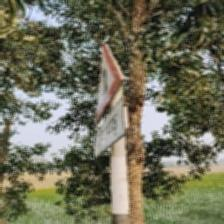Left-Turn: (94, 42, 126, 158)
